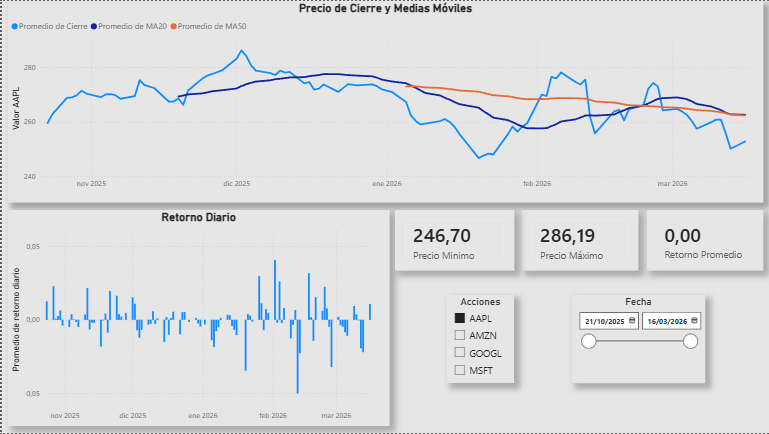

This screenshot's page, from the dashboard's own definition file:
{"tool":"powerbi","page":{"name":"Accion Individual","canvas":[1280,720],"ordinal":0},"visuals":[{"type":"lineChart","title":"Precio de Cierre y Medias Móviles","fields":{"Y":["Avg(stock_prices.close)","Avg(stock_metrics.MA20)","Avg(stock_metrics.MA50)"],"Category":["stock_metrics.date.Variation.Date Hierarchy.Year"]},"box":[10,0,1258.6,335.7],"z":0},{"type":"clusteredColumnChart","title":"Retorno Diario","fields":{"Category":["stock_prices.date"],"Y":["Avg(stock_metrics.daily_return)"]},"box":[10,348.6,635.7,360],"z":1000},{"type":"cardVisual","fields":{"Data":["Max(stock_metrics.close)"]},"box":[867.1,348.6,194.3,101.4],"z":2000},{"type":"cardVisual","fields":{"Data":["Min(stock_metrics.close)"]},"box":[654.3,348.6,198.6,101.4],"z":3000},{"type":"cardVisual","fields":{"Data":["Avg(stock_metrics.daily_return)"]},"box":[1074.3,348.6,194.3,101.4],"z":4000},{"type":"slicer","title":"Fecha","fields":{"Values":["stock_metrics.date"]},"box":[950,490,221.7,146.7],"z":5000},{"type":"slicer","title":"Acciones","fields":{"Values":["stock_metrics.symbol"]},"box":[741.7,490,111.7,146.7],"z":5001}]}

Visuals, with their boxes in screenshot pixels (x1, y1, x2, y2), scaled from the page's 1280x720 canvas onto the 769x434 screenshot:
"Precio de Cierre y Medias Móviles" lineChart: <box>6,0,762,202</box>
"Retorno Diario" clusteredColumnChart: <box>6,210,388,427</box>
cardVisual - Max(stock_metrics.close): <box>521,210,638,271</box>
cardVisual - Min(stock_metrics.close): <box>393,210,512,271</box>
cardVisual - Avg(stock_metrics.daily_return): <box>645,210,762,271</box>
"Fecha" slicer: <box>571,295,704,384</box>
"Acciones" slicer: <box>446,295,513,384</box>
